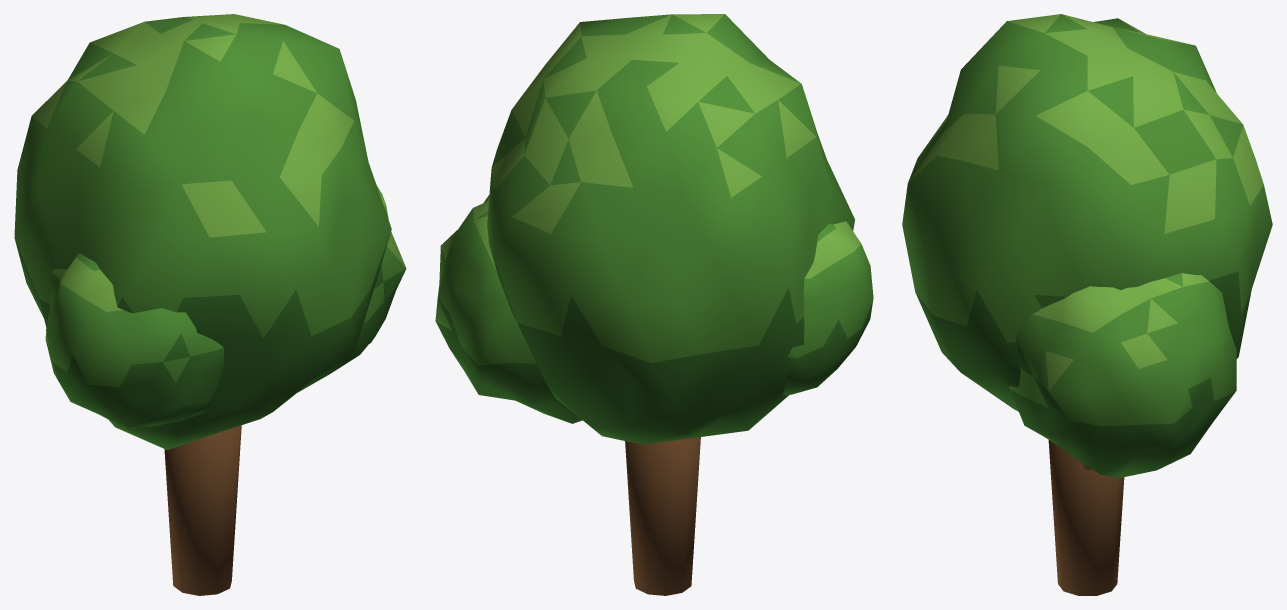
Rendered from tree.glb.
3 renders of one model, left to right at view 1: azimuth 30°, elevation 25°; view 2: azimuth 150°, elevation 25°; view 3: azimuth 270°, elevation 25°, orthographic. The views are drawn at different scales.
Parts seen in each view (by area): view 1: Tree; view 2: Tree; view 3: Tree.
Boxes of the visible parts, bbox=[...] form: Tree: bbox=[14, 14, 406, 595]; Tree: bbox=[435, 14, 873, 595]; Tree: bbox=[902, 14, 1272, 595].
Size of the model in its own units: 0.6459 by 0.9299 by 0.561.
